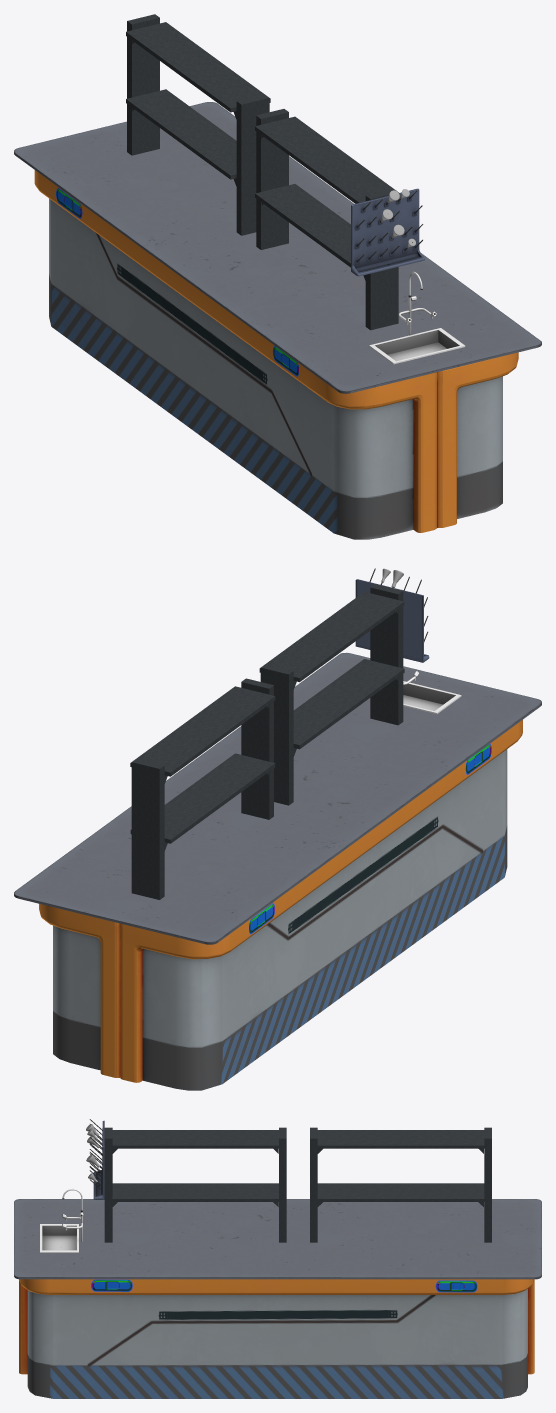
Rendered from LabTable.fbx.
3 views of the same model, one above another, from view 1: azimuth 30°, elevation 25°; view 2: azimuth 150°, elevation 25°; view 3: azimuth 270°, elevation 25° (orthographic). The views are drawn at different scales.
Visible parts, largest first — view 1: LabTable, stend, Water_Tap2; view 2: LabTable, stend, Water_Tap2; view 3: LabTable, Water_Tap2, stend.
Boxes of the visible parts, box(x1,y1,x2,y2) form: LabTable: box(14, 14, 541, 539); stend: box(351, 188, 424, 276); Water_Tap2: box(369, 271, 465, 364); LabTable: box(14, 584, 541, 1090); stend: box(355, 568, 429, 662); Water_Tap2: box(403, 671, 461, 714); LabTable: box(14, 1127, 541, 1398); Water_Tap2: box(40, 1188, 83, 1252); stend: box(89, 1119, 104, 1199).
Size of the model in its own units: 124 by 178 by 352.
